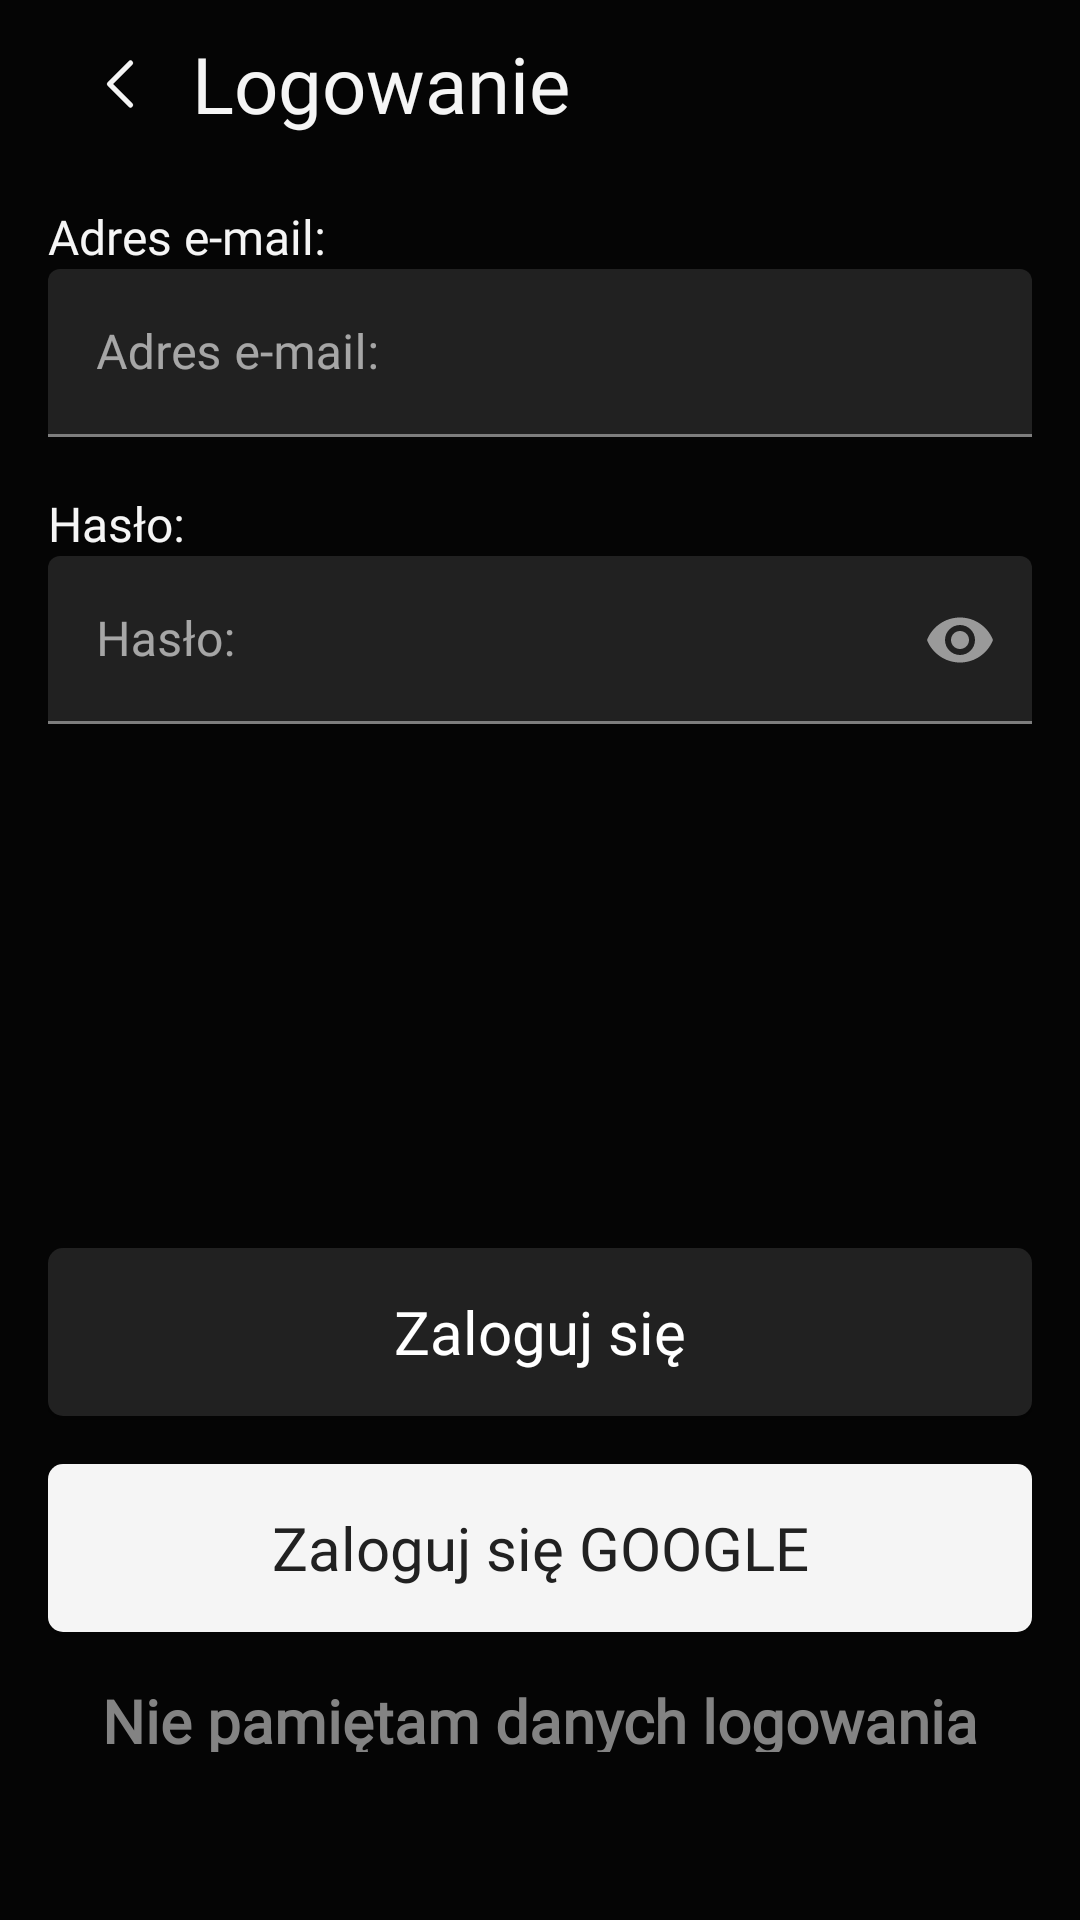

Named icons in this screenshot (1080w x 1920h) and their centers, (x,y):
Go Back: (120,84)
